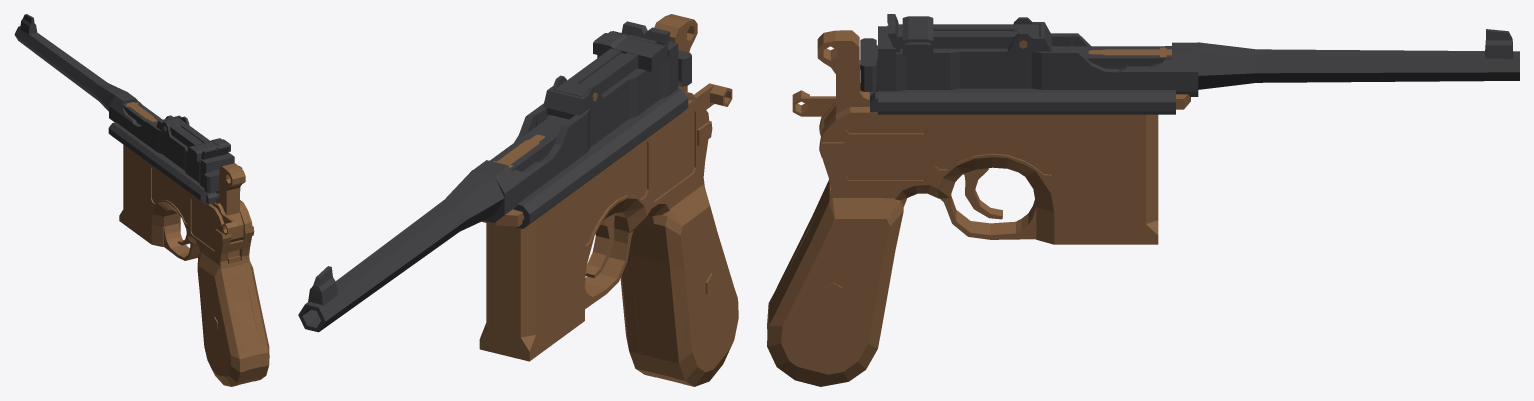
3 renders of one model, left to right at view 1: azimuth 30°, elevation 25°; view 2: azimuth 150°, elevation 25°; view 3: azimuth 270°, elevation 25°, orthographic. The views are drawn at different scales.
Visible parts, largest first — view 1: mauser-c96; view 2: mauser-c96; view 3: mauser-c96.
Boxes of the visible parts, left/top/right/bottom form: mauser-c96: left=14, top=14, right=269, bottom=386; mauser-c96: left=298, top=14, right=738, bottom=386; mauser-c96: left=767, top=14, right=1519, bottom=386.
Bounding box in the file's own units: 0.0313 × 0.1608 × 0.312.
